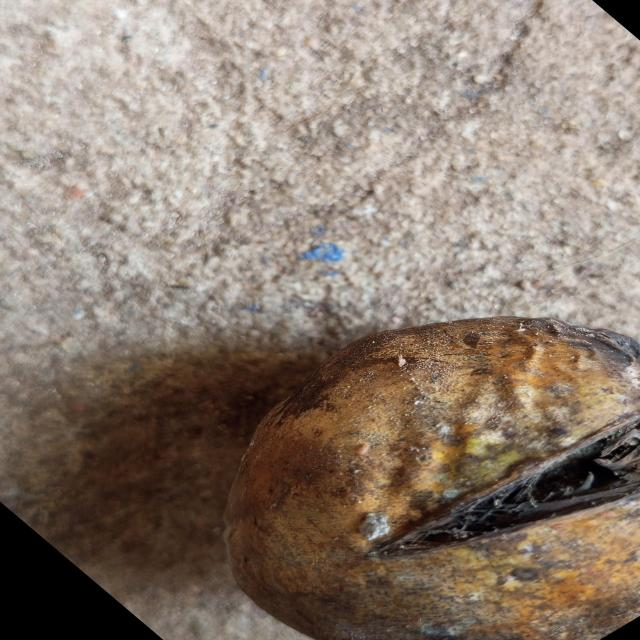damaged: (226, 318, 640, 640)
